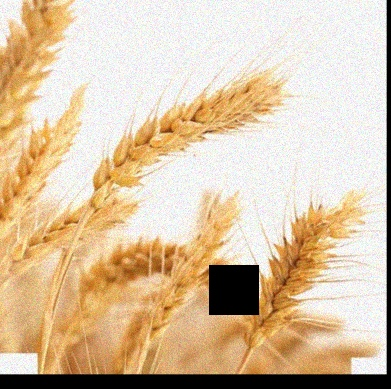wheat: (81, 57, 294, 218), (243, 187, 365, 358)
